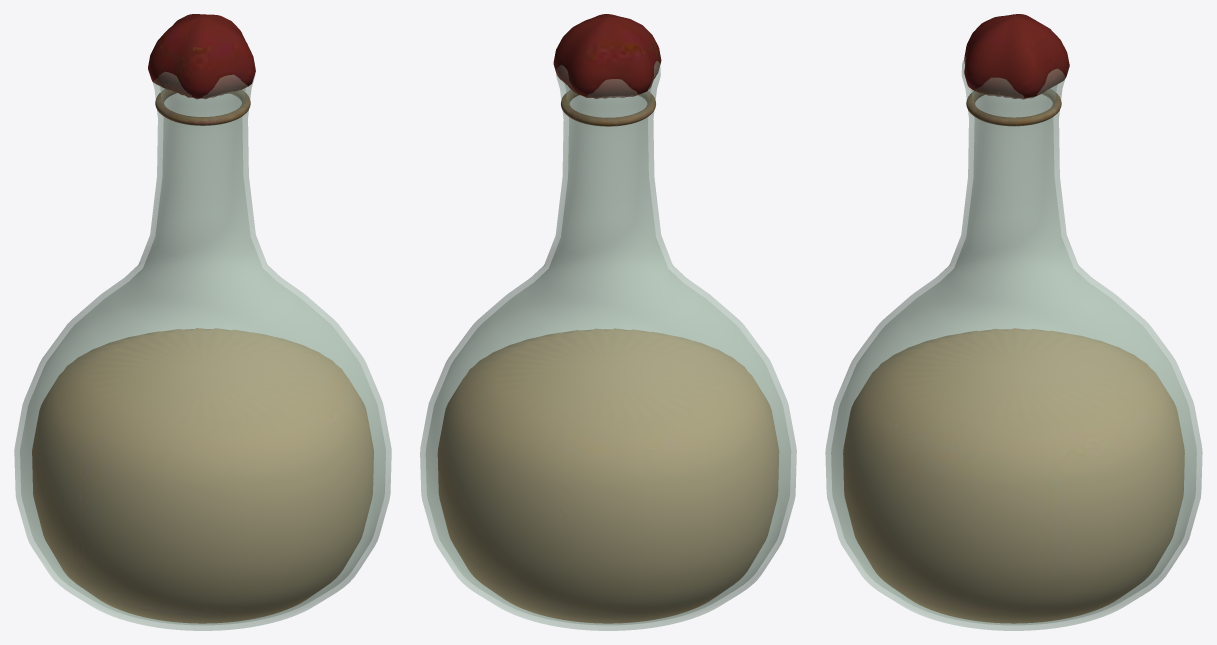
The model's file is thyme_decoction.glb.
3 views of the same model, side by side, from view 1: azimuth 30°, elevation 25°; view 2: azimuth 150°, elevation 25°; view 3: azimuth 270°, elevation 25° (orthographic).
Visible parts, largest first — view 1: glass, thyme_decoction; view 2: glass, thyme_decoction; view 3: glass, thyme_decoction.
Part boxes in pixels (<box>): glass: <box>14,72,391,630</box>; thyme_decoction: <box>32,14,373,623</box>; glass: <box>420,61,796,630</box>; thyme_decoction: <box>437,14,779,623</box>; glass: <box>825,57,1202,630</box>; thyme_decoction: <box>843,14,1184,623</box>.
Size of the model in its own units: 0.1024 by 0.1737 by 0.1024.
Materials: 2 (1 with a texture image).
